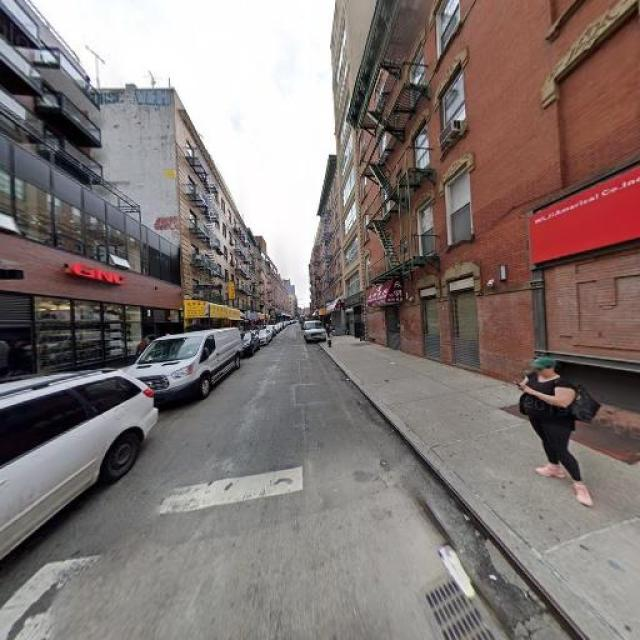Building: (363, 1, 640, 419), (1, 137, 180, 393)
